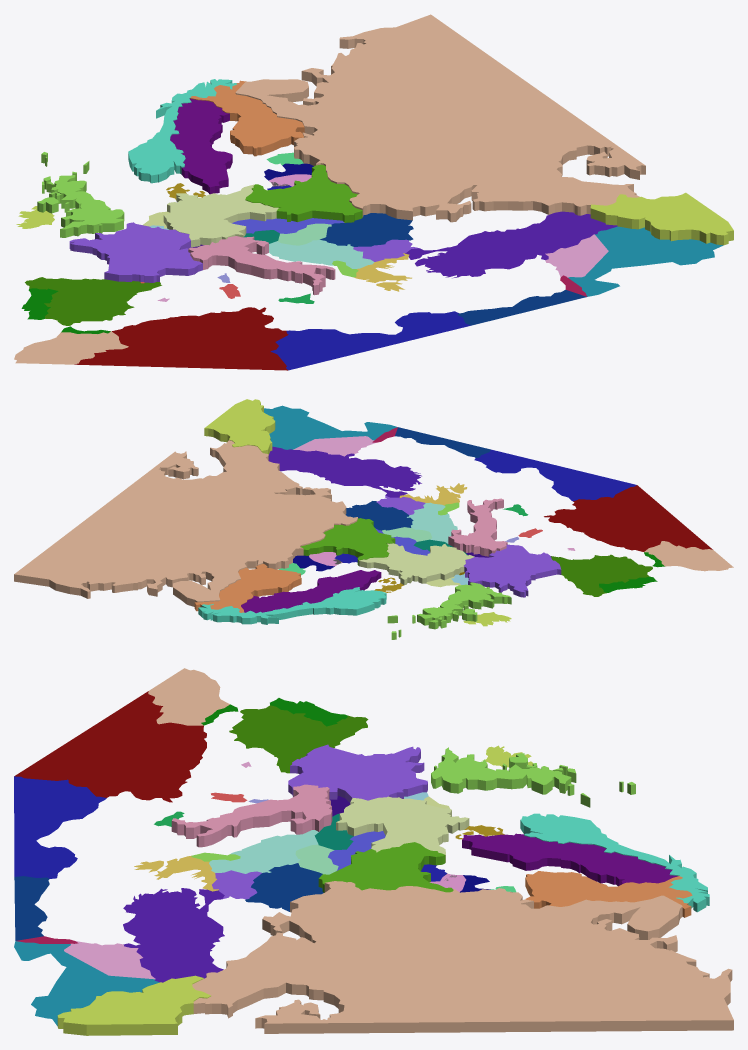
Rendered from map.DAE.
3 views of the same model, one above another, from view 1: azimuth 30°, elevation 25°; view 2: azimuth 150°, elevation 25°; view 3: azimuth 270°, elevation 25° (orthographic). The views are drawn at different scales.
Visible parts, largest first — view 1: Russia, Algeria, Turkey, France, Persia, Libya, Iraq, Germany, Sweden, Spain, Italy, Poland (+14 smaller); view 2: Russia, Algeria, Turkey, France, Norway, Libya, Germany, Iraq, Persia, Spain, GreatBritain01, Poland (+13 smaller); view 3: Russia, Algeria, Turkey, Libya, France, Persia, Sweden, Germany, Italy, Spain, GreatBritain01, Iraq (+15 smaller).
Boxes of the visible parts, box(x1,y1,x2,y2) form: Russia: box(235, 14, 645, 222); Algeria: box(74, 311, 287, 370); Turkey: box(405, 211, 617, 278); France: box(69, 222, 202, 282); Persia: box(590, 192, 733, 245); Libya: box(270, 311, 470, 370); Iraq: box(568, 226, 723, 296); Germany: box(163, 184, 278, 247); Sweden: box(170, 98, 232, 194); Spain: box(25, 277, 161, 325); Italy: box(188, 236, 335, 295); Poland: box(245, 164, 362, 222); Russia: box(14, 440, 357, 606); Algeria: box(561, 485, 712, 551); Turkey: box(268, 446, 421, 497); France: box(464, 544, 561, 597); Norway: box(198, 587, 386, 624); Libya: box(474, 449, 636, 501); Germany: box(358, 543, 474, 585); Iraq: box(264, 405, 397, 449); Persia: box(204, 399, 275, 454); Spain: box(551, 554, 652, 596); GreatBritain01: box(387, 582, 511, 639); Poland: box(300, 518, 395, 565); Russia: box(192, 881, 733, 1033); Algeria: box(14, 691, 206, 788); Turkey: box(123, 888, 224, 982); Libya: box(14, 776, 106, 878); France: box(288, 744, 427, 802); Persia: box(57, 975, 210, 1035); Sweden: box(462, 833, 678, 886); Germany: box(336, 796, 469, 862); Italy: box(171, 784, 332, 847); Spain: box(229, 705, 368, 773); GreatBritain01: box(431, 747, 635, 807); Iraq: box(14, 941, 159, 1025).
Bounding box in the file's own units: 666 × 551 × 9.37.
